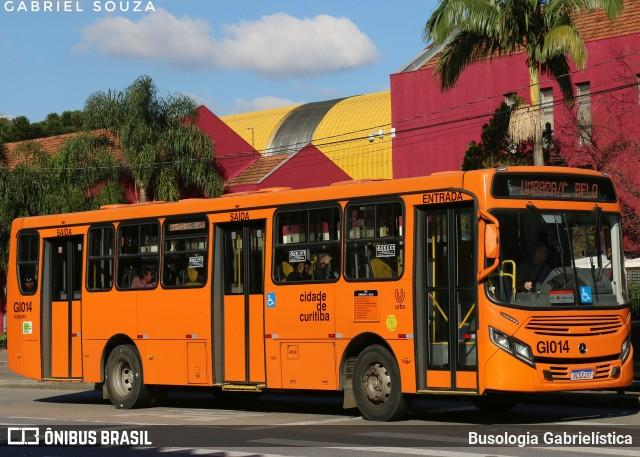UMBARA C. BELO: (516, 175, 602, 203)
